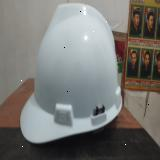Helmet: (20, 3, 123, 144)
